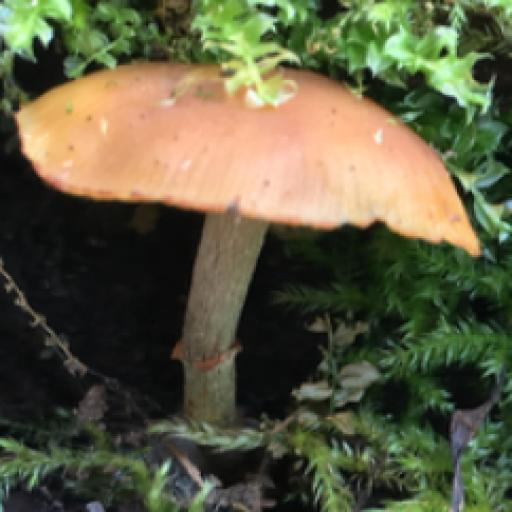Funeral Bell: (18, 54, 492, 423)
